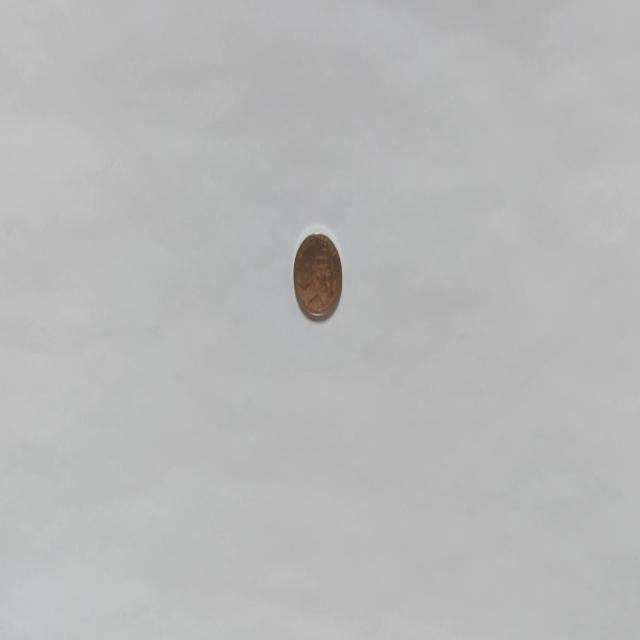seribu rupiah koin: (292, 226, 342, 322)
